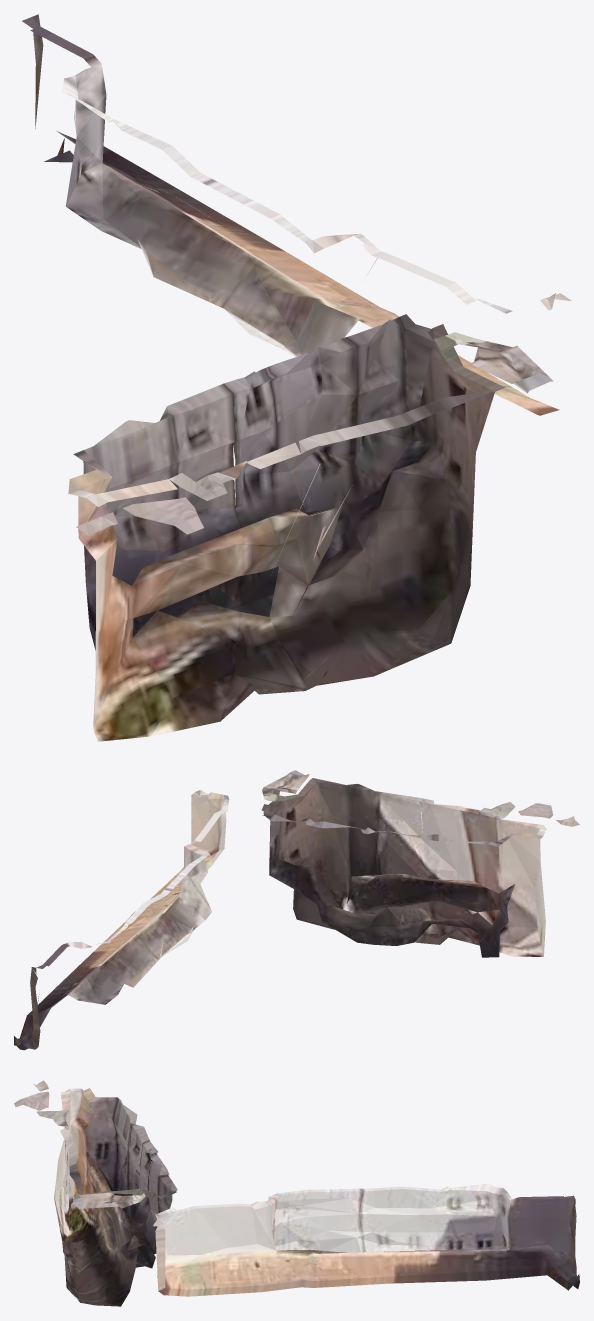
3 views of the same model, one above another, from view 1: azimuth 30°, elevation 25°; view 2: azimuth 150°, elevation 25°; view 3: azimuth 270°, elevation 25° (orthographic). The views are drawn at different scales.
Visible parts, largest first — view 1: Mesh_0; view 2: Mesh_0; view 3: Mesh_0.
Part boxes in pixels (x1=…): Mesh_0: x1=22, y1=14, x2=571, y2=741; Mesh_0: x1=14, y1=770, x2=579, y2=1050; Mesh_0: x1=14, y1=1080, x2=579, y2=1306.
Bounding box in the file's own units: 25.16 × 10.43 × 40.54.
1 material, 1 textured.
